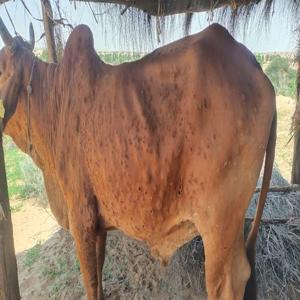lumpy skin diesease: (0, 15, 277, 299)
